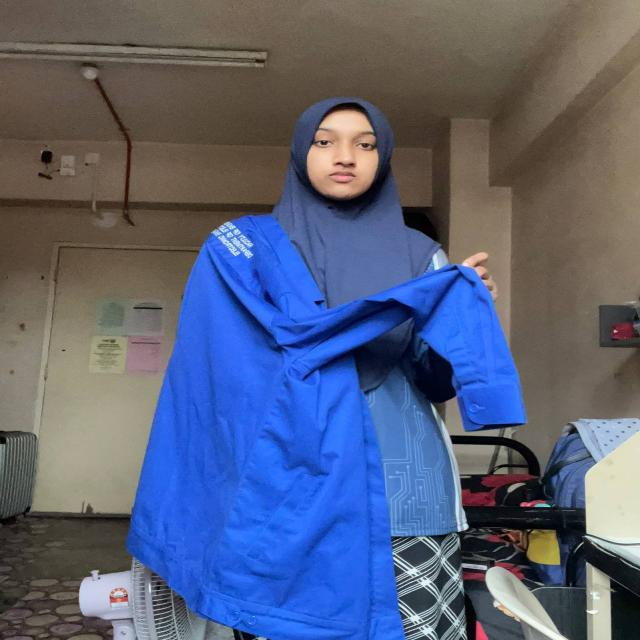person_without_labcoat: (127, 98, 525, 640)
